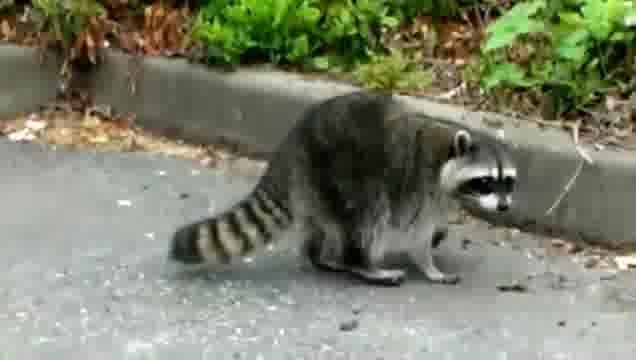raccoon: (169, 88, 523, 290)
